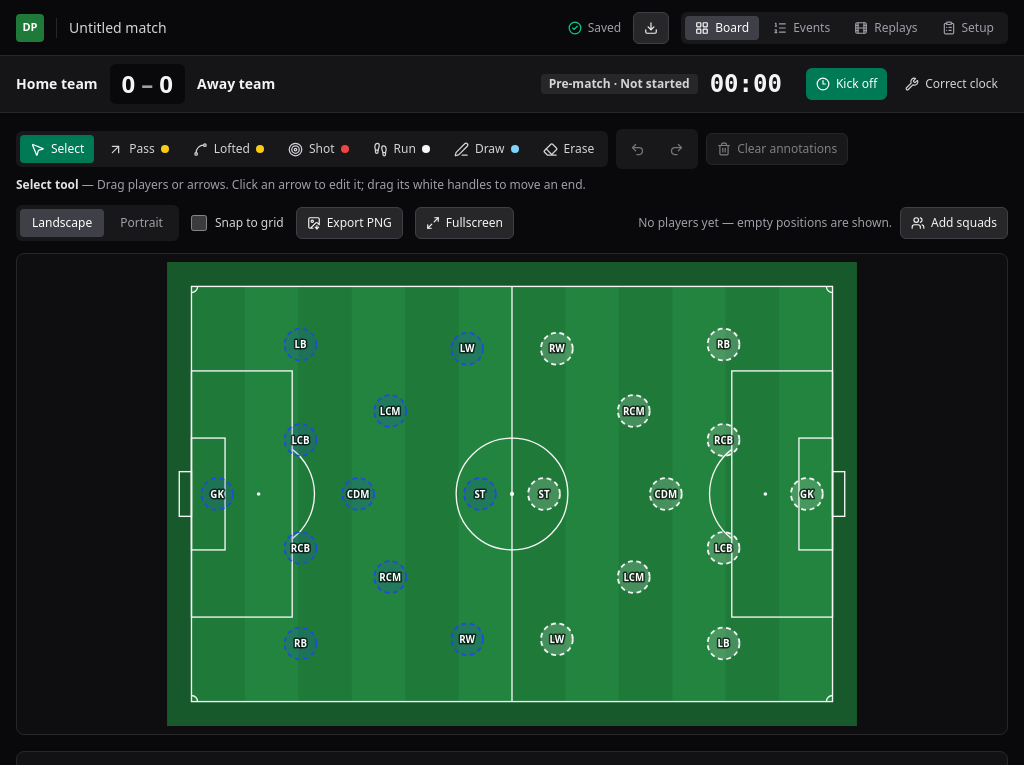
BoardView › shows 11 markers per team with empty positions before squads exist
Click the button "Add squads" at (954, 223), box [900,207,1008,239]
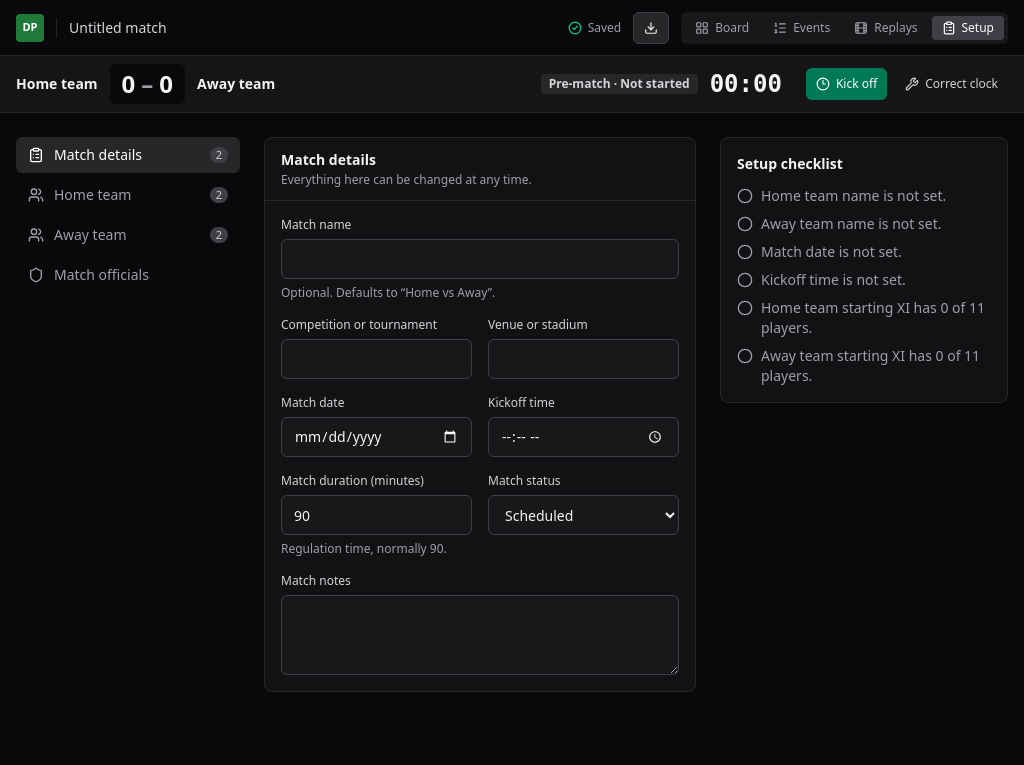
Now the navigation bar named "setup sections" is shown, box [16,137,240,293]
